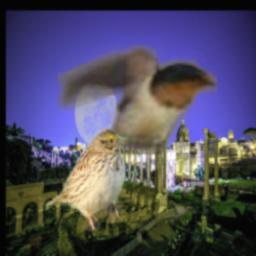Sparrow: (46, 126, 130, 231)
Swallow: (57, 45, 216, 154)
